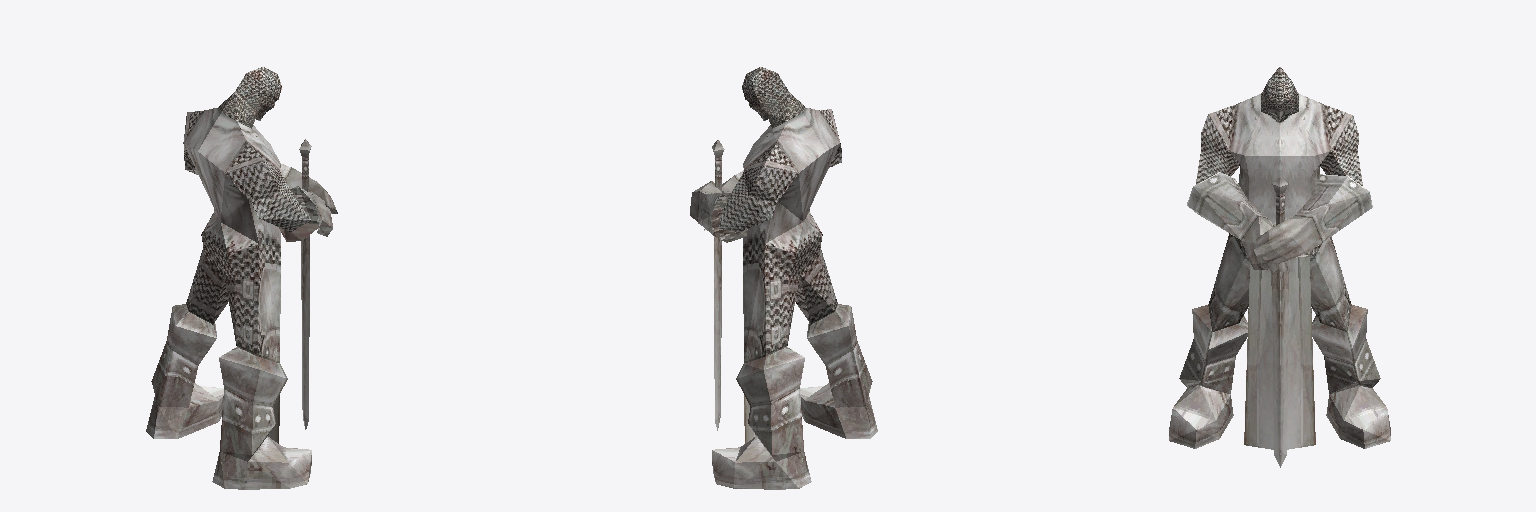
3 renders of one model, left to right at view 1: azimuth 30°, elevation 25°; view 2: azimuth 150°, elevation 25°; view 3: azimuth 270°, elevation 25°, orthographic.
Visible parts, largest first — view 1: object 1; view 2: object 1; view 3: object 1.
Boxes of the visible parts, <box> form: object 1: <box>146,67,337,489</box>; object 1: <box>690,67,877,489</box>; object 1: <box>1169,67,1390,467</box>.
Bounding box in the file's own units: 0.8011 × 1.97 × 1.06.
1 materials, 1 textured.